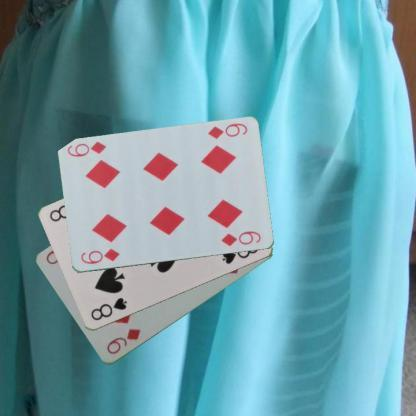6d: (205, 120, 249, 140), (78, 246, 121, 266)
8s: (88, 296, 128, 323)
9d: (104, 326, 142, 356)
